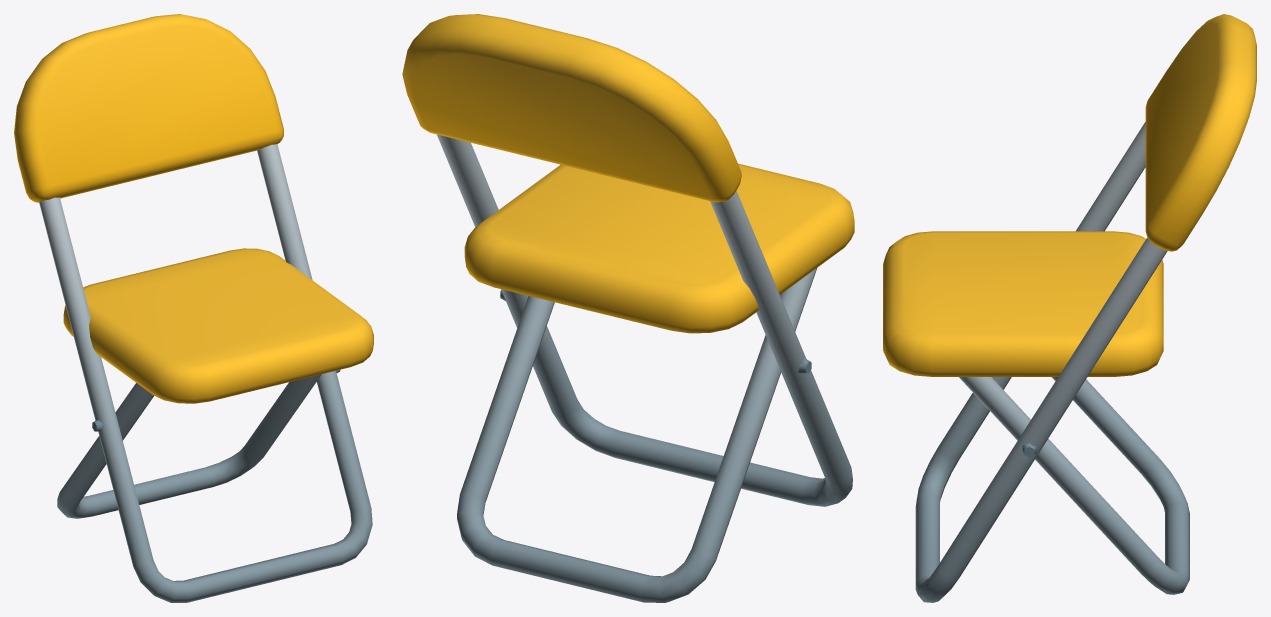
The model's file is Chair_09.glb.
The picture shows the model from 3 angles, left to right: view 1: azimuth 30°, elevation 25°; view 2: azimuth 150°, elevation 25°; view 3: azimuth 270°, elevation 25°; orthographic projection. The views are drawn at different scales.
Visible parts, largest first — view 1: Chair_09; view 2: Chair_09; view 3: Chair_09.
Part boxes in pixels (x1,y1,x2,y2): Chair_09: [14, 14, 373, 602]; Chair_09: [402, 14, 854, 602]; Chair_09: [883, 14, 1256, 602].
Bounding box in the file's own units: 0.4609 × 0.8061 × 0.5328.
1 material, 1 textured.
